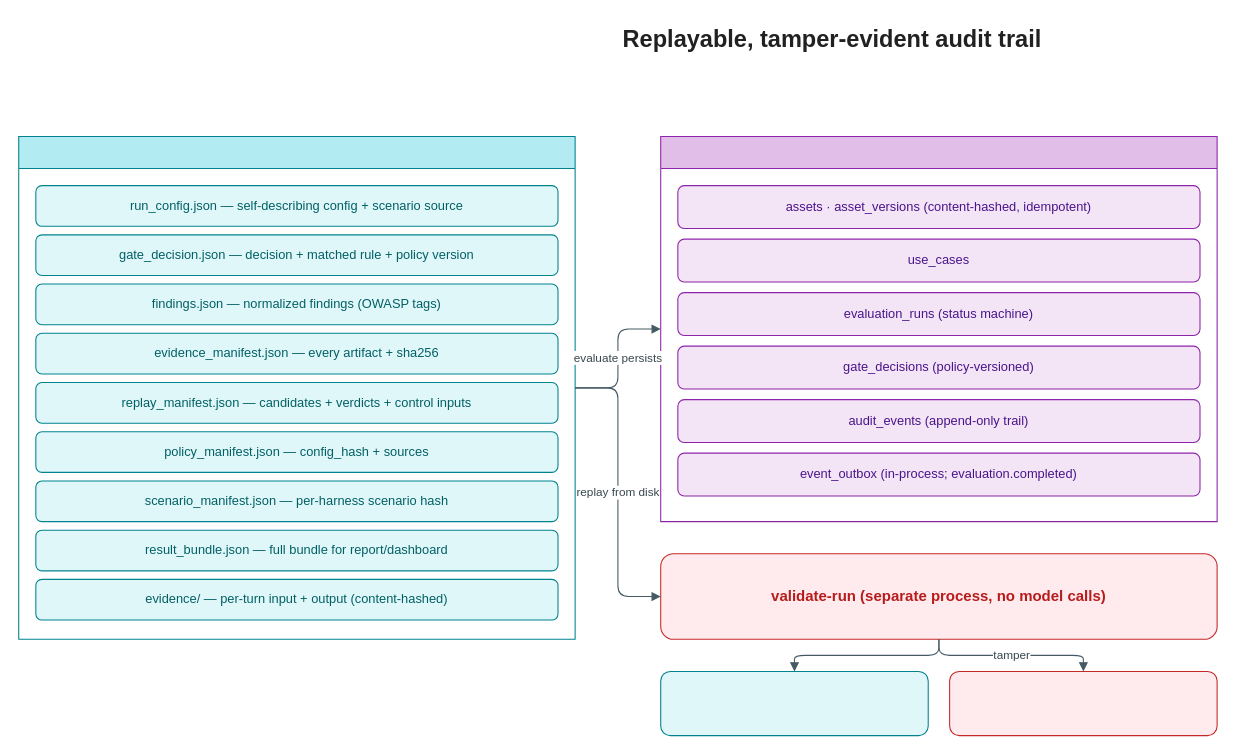
This 1236x754 diagram has some shape labels left out. Here are the shapes that lost their labels. From the top down, the box of each, then its label:
(660, 135, 1217, 522): M4 · SQLite CONTROL PLANE (7 tables)
(18, 135, 575, 639): M3 · RUN BUNDLE runs/RUN-…/
(660, 670, 928, 736): re-hash every response = chain of custody
(949, 670, 1217, 736): 1 edited byte → FAIL (exit 1)
